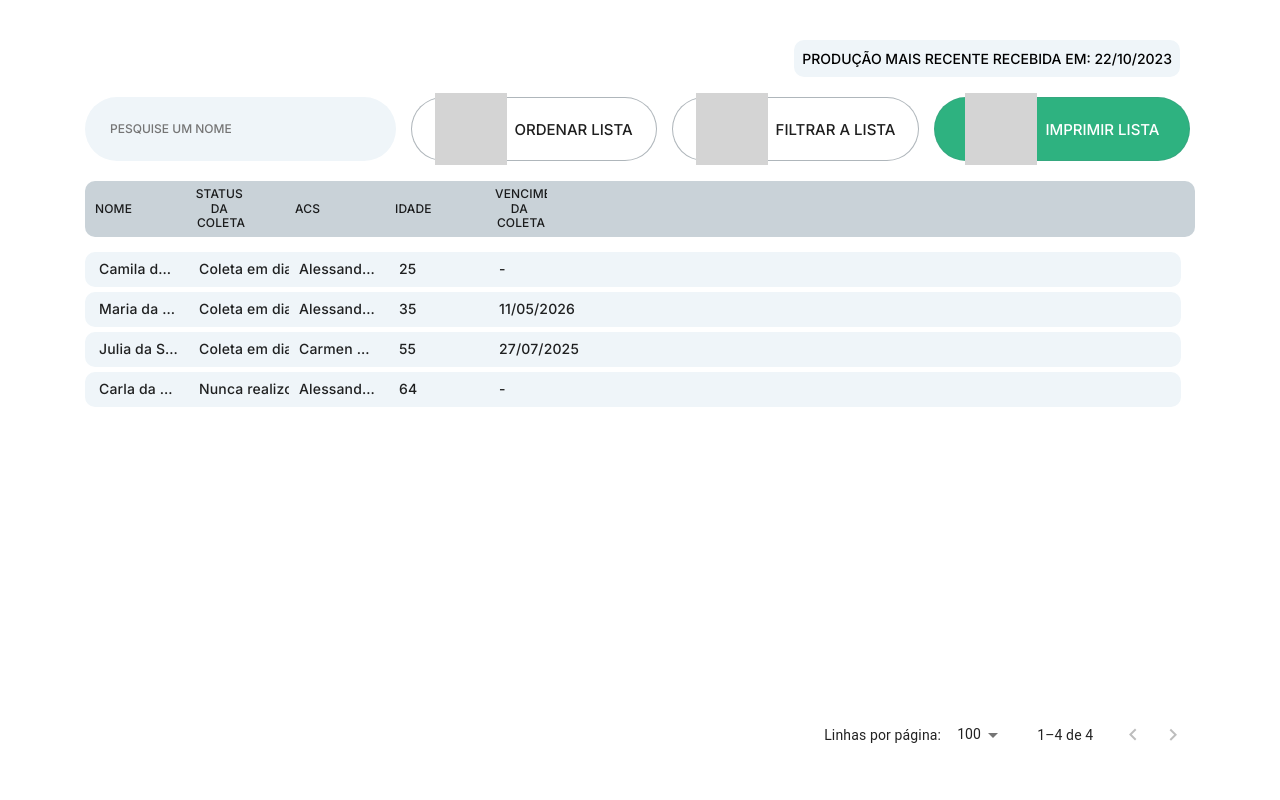
Test: Ao abrir o modal e clicar fora dele › deve fechar o modal
The width and height of the screenshot is (1280, 800).
Click the button "ORDENAR LISTA".
click(534, 129)  # box [410, 97, 657, 161]
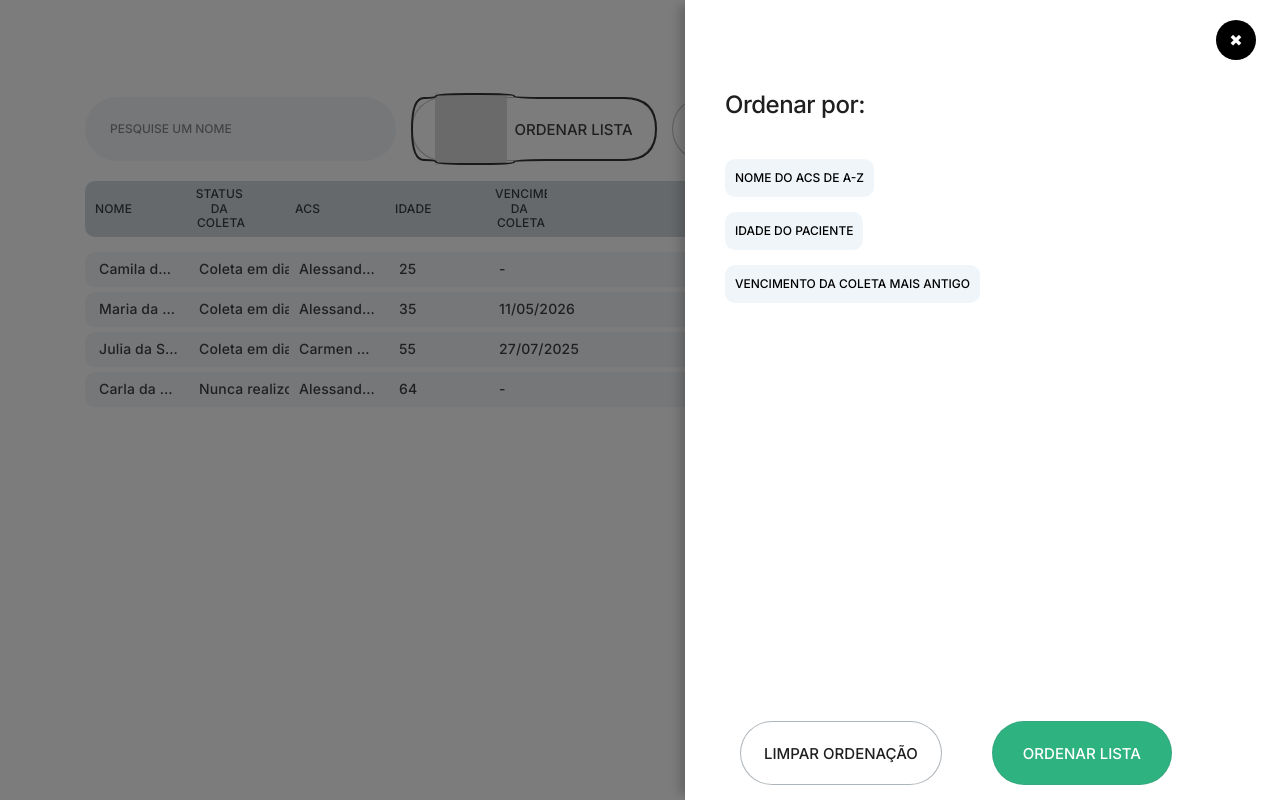
Click the element with test id "BlurArea".
click(640, 400)  # box [0, 0, 1279, 799]
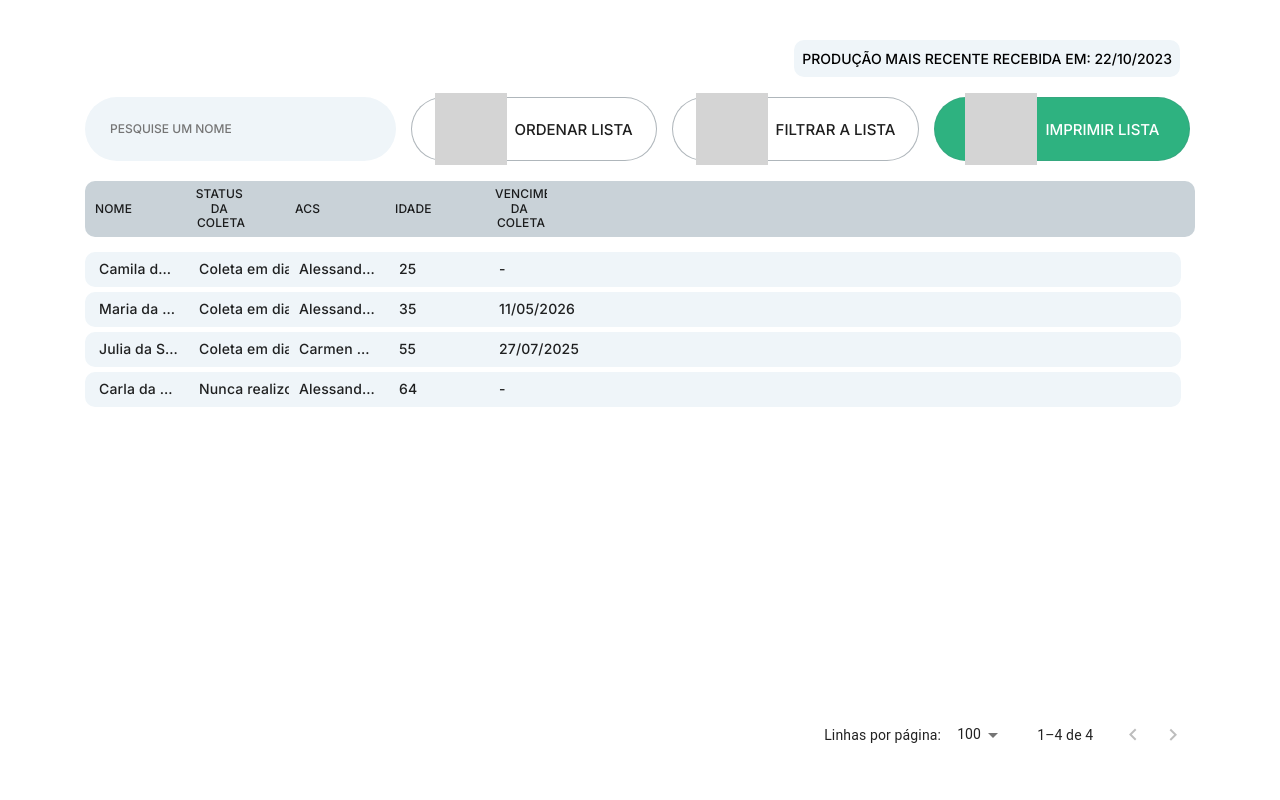
Expected: the element with test id "Modal" is gone
